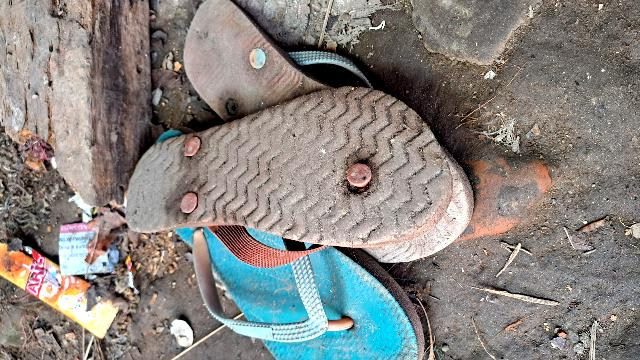sandal: (119, 85, 431, 251), (163, 183, 435, 360), (163, 0, 351, 177)
